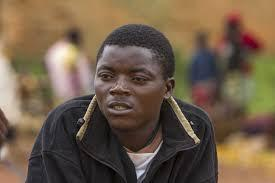cap: (93, 16, 179, 130)
